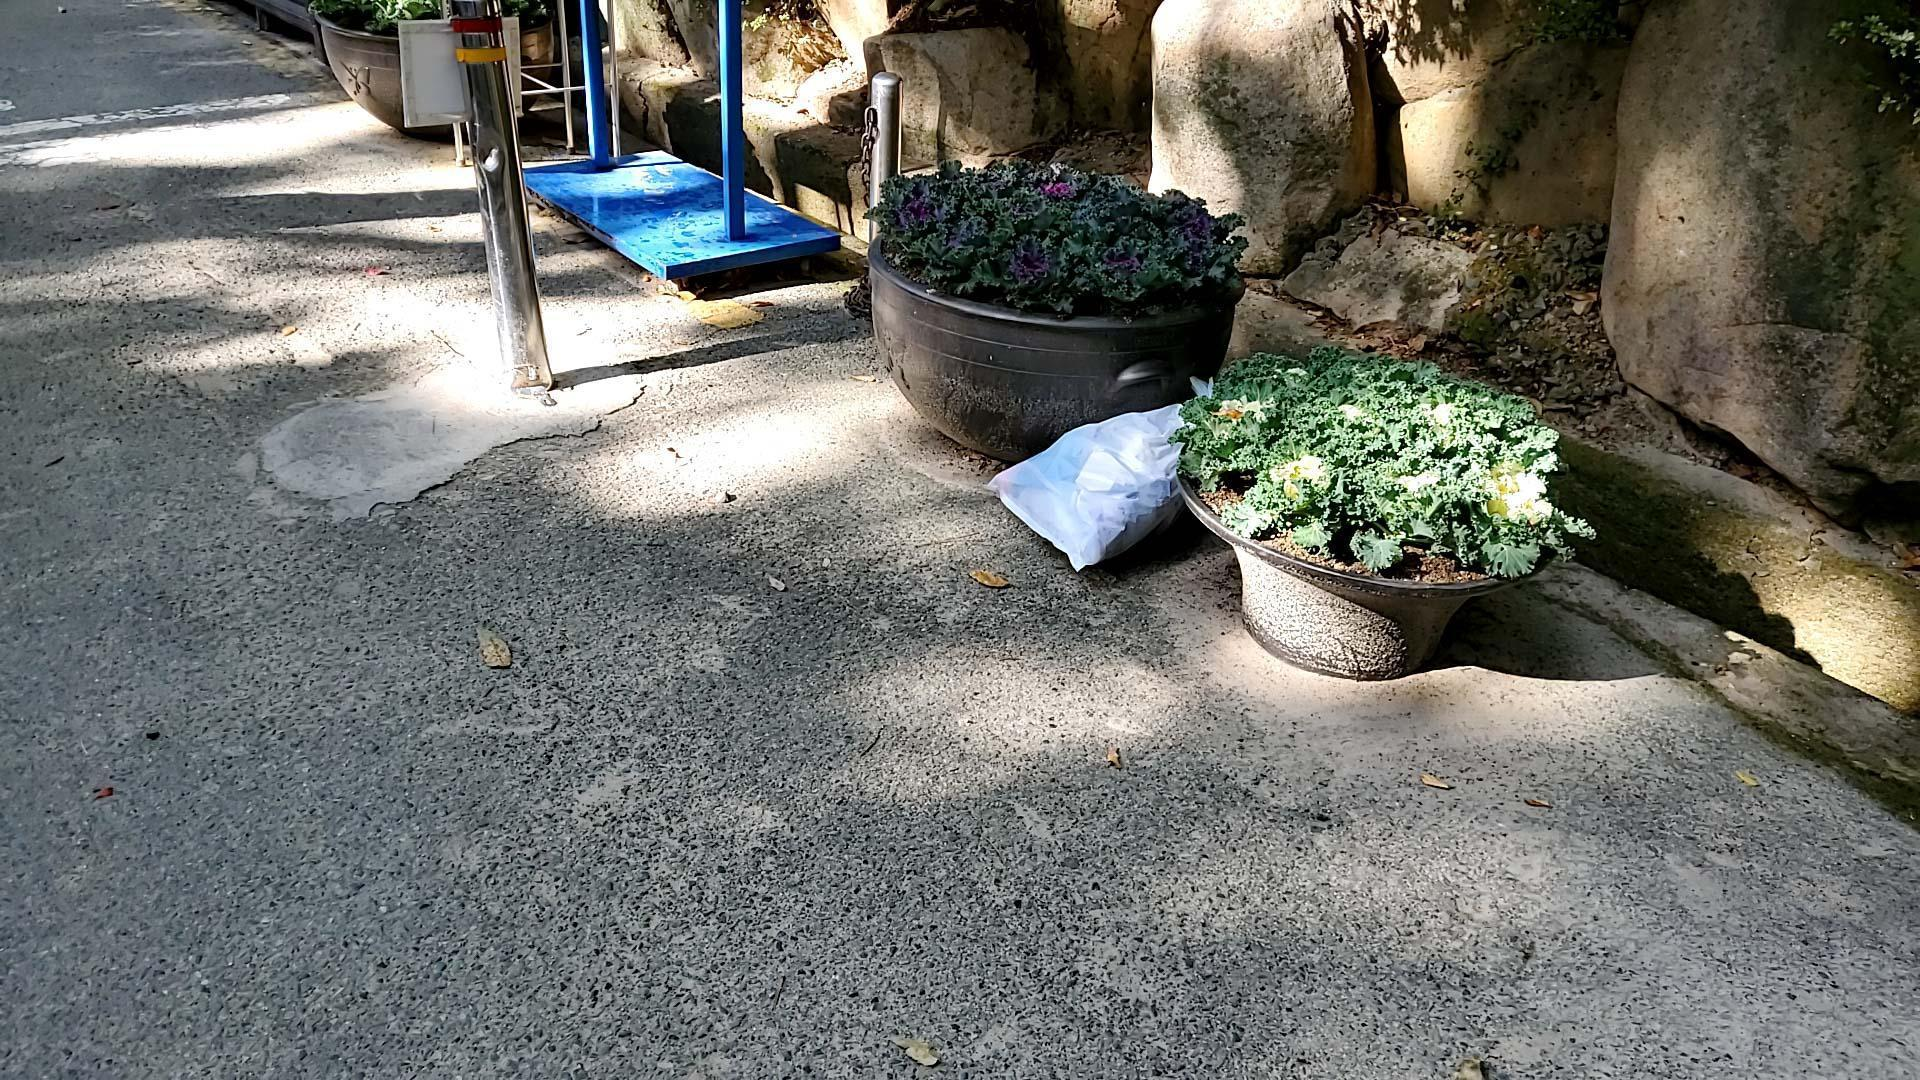white_bag: (973, 367, 1242, 585)
